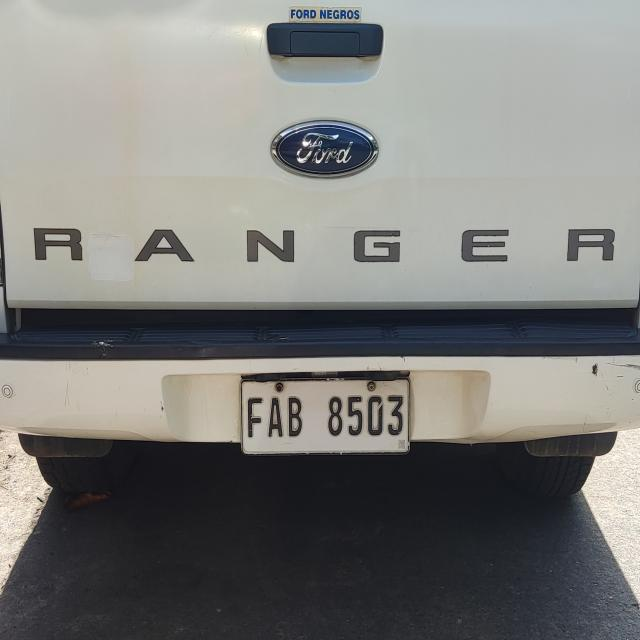plate: (238, 374, 412, 458)
